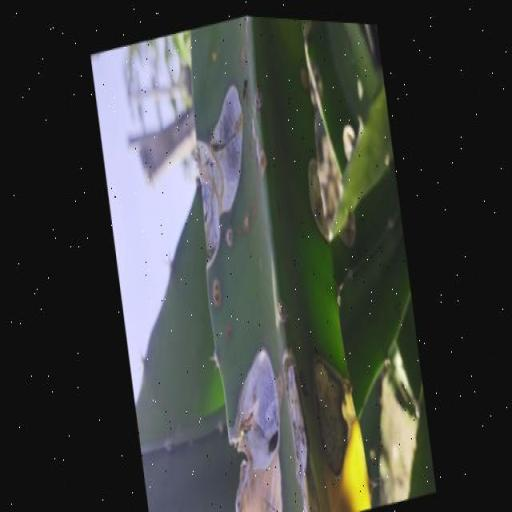stemcanker: (238, 209, 257, 239), (223, 226, 236, 249), (208, 44, 219, 67)
